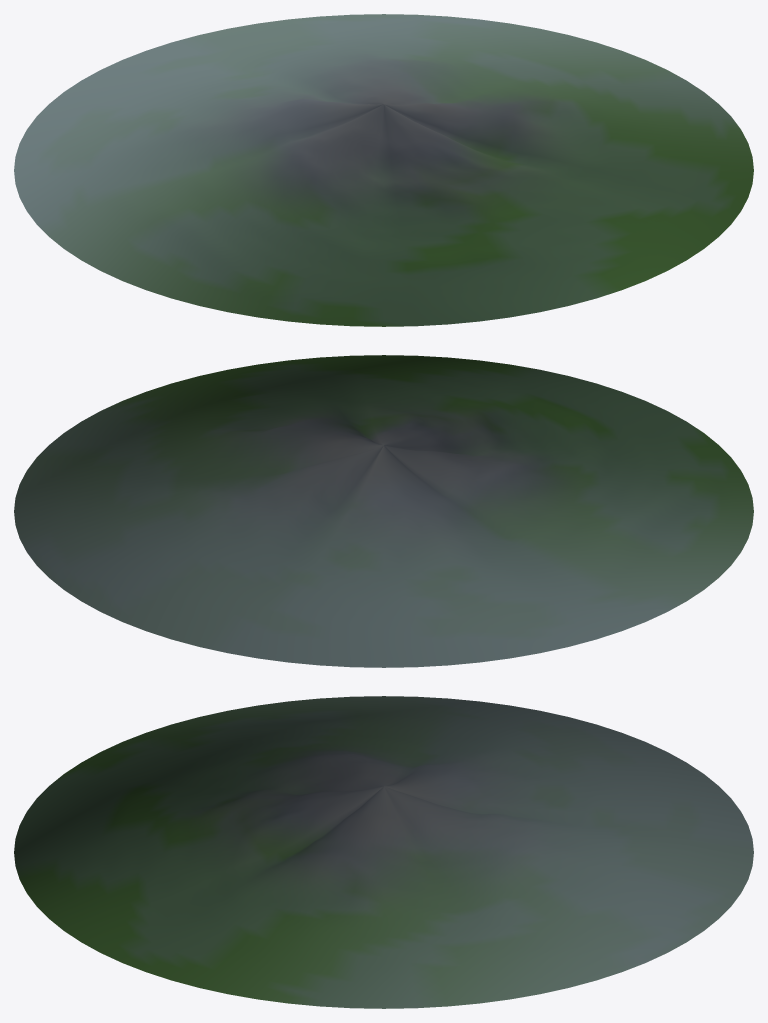
3 views of the same model, one above another, from view 1: azimuth 30°, elevation 25°; view 2: azimuth 150°, elevation 25°; view 3: azimuth 270°, elevation 25° (orthographic).
Parts seen in each view (by area): view 1: L4_1_Peak9; view 2: L4_1_Peak9; view 3: L4_1_Peak9.
Boxes of the visible parts, x1,y1,x2,y2 form: L4_1_Peak9: (14,14,753,326); L4_1_Peak9: (14,355,753,667); L4_1_Peak9: (14,696,753,1008).
Bounding box in the file's own units: 1356 × 134 × 1356.
